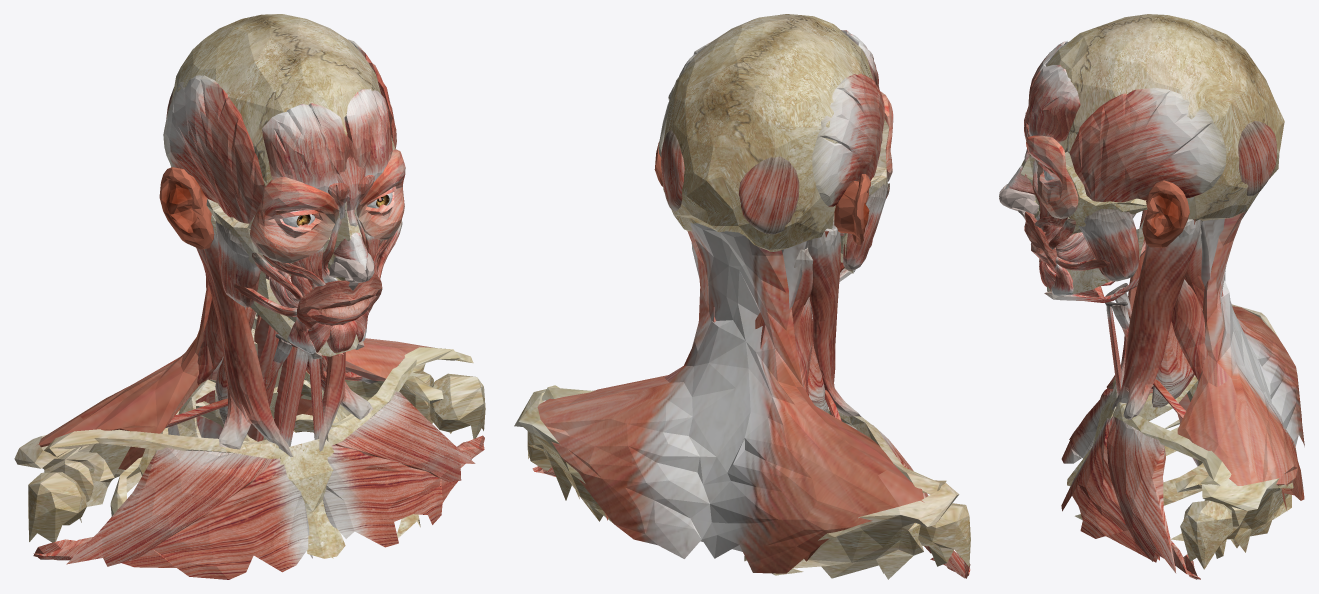
The model's file is Anatomico.fbx.
3 views of the same model, side by side, from view 1: azimuth 30°, elevation 25°; view 2: azimuth 150°, elevation 25°; view 3: azimuth 270°, elevation 25° (orthographic). The views are drawn at different scales.
Visible parts, largest first — view 1: Musculos_Cabeza_1:esqueleto:esqueleto, Musculos_Cabeza_1:Pectoralis1:Pectoralis, Musculos_Cabeza_1:Temporalis:Temporalis, Musculos_Cabeza_1:Frontalis:Frontalis, Musculos_Cabeza_1:Trapezius:Trapezius, Musculos_Cabeza_1:Sternocletomastoid:Sternocletomastoid, Musculos_Cabeza_1:Obicularis_Oculi1, Musculos_Cabeza_1:Oreja:Oreja, Musculos_Cabeza_1:Orbicularis_Oris1, Musculos_Cabeza_1:Massetter:Massetter, Musculos_Cabeza_1:Sternohyoid:Sternohyoid, Longus_Colli (+16 smaller); view 2: Musculos_Cabeza_1:Trapezius:Trapezius, Musculos_Cabeza_1:esqueleto:esqueleto, Musculos_Cabeza_1:Temporalis:Temporalis, Musculo_Cabeza_Occipital, Musculos_Cabeza_1:Sternocletomastoid:Sternocletomastoid, Musculos_Cabeza_1:Oreja:Oreja, Musculos_Cabeza_1:Massetter:Massetter, Musculos_Cabeza_1:Levator_Scapulae1, Longissimus__Capitis, Musculos_Cabeza_1:Splenius_Capitis1, Musculos_Cabeza_1:Pectoralis1:Pectoralis, Musculos_Cabeza_1:Scalenus_Medius1; view 3: Musculos_Cabeza_1:esqueleto:esqueleto, Musculos_Cabeza_1:Trapezius:Trapezius, Musculos_Cabeza_1:Temporalis:Temporalis, Musculos_Cabeza_1:Pectoralis1:Pectoralis, Musculos_Cabeza_1:Sternocletomastoid:Sternocletomastoid, Musculos_Cabeza_1:Frontalis:Frontalis, Musculos_Cabeza_1:Massetter:Massetter, Musculos_Cabeza_1:Obicularis_Oculi1, Musculos_Cabeza_1:Oreja:Oreja, Musculo_Cabeza_Occipital, Musculos_Cabeza_1:Levator_Scapulae1, Musculos_Cabeza_1:Scalenus_Medius1 (+11 smaller).
Part boxes in pixels (<box>): Musculos_Cabeza_1:esqueleto:esqueleto: <box>14,14,485,558</box>; Musculos_Cabeza_1:Pectoralis1:Pectoralis: <box>33,391,484,579</box>; Musculos_Cabeza_1:Temporalis:Temporalis: <box>163,39,396,223</box>; Musculos_Cabeza_1:Frontalis:Frontalis: <box>262,89,392,193</box>; Musculos_Cabeza_1:Trapezius:Trapezius: <box>36,274,432,469</box>; Musculos_Cabeza_1:Sternocletomastoid:Sternocletomastoid: <box>196,228,373,456</box>; Musculos_Cabeza_1:Obicularis_Oculi1: <box>250,149,405,263</box>; Musculos_Cabeza_1:Oreja:Oreja: <box>159,167,214,249</box>; Musculos_Cabeza_1:Orbicularis_Oris1: <box>297,273,382,328</box>; Musculos_Cabeza_1:Massetter:Massetter: <box>215,220,381,307</box>; Musculos_Cabeza_1:Sternohyoid:Sternohyoid: <box>279,348,323,446</box>; Longus_Colli: <box>247,267,296,441</box>; Musculos_Cabeza_1:Trapezius:Trapezius: <box>537,222,924,573</box>; Musculos_Cabeza_1:esqueleto:esqueleto: <box>514,14,970,579</box>; Musculos_Cabeza_1:Temporalis:Temporalis: <box>658,42,884,206</box>; Musculo_Cabeza_Occipital: <box>661,130,799,234</box>; Musculos_Cabeza_1:Sternocletomastoid:Sternocletomastoid: <box>808,220,861,416</box>; Musculos_Cabeza_1:Oreja:Oreja: <box>654,142,870,245</box>; Musculos_Cabeza_1:Massetter:Massetter: <box>843,184,887,270</box>; Musculos_Cabeza_1:Levator_Scapulae1: <box>794,297,812,395</box>; Longissimus__Capitis: <box>691,240,807,348</box>; Musculos_Cabeza_1:Splenius_Capitis1: <box>755,247,813,332</box>; Musculos_Cabeza_1:Pectoralis1:Pectoralis: <box>532,425,970,578</box>; Musculos_Cabeza_1:Scalenus_Medius1: <box>808,338,828,412</box>; Musculos_Cabeza_1:esqueleto:esqueleto: <box>1020,14,1293,569</box>; Musculos_Cabeza_1:Trapezius:Trapezius: <box>1177,199,1304,510</box>; Musculos_Cabeza_1:Temporalis:Temporalis: <box>1069,88,1226,202</box>; Musculos_Cabeza_1:Pectoralis1:Pectoralis: <box>1061,375,1200,579</box>; Musculos_Cabeza_1:Sternocletomastoid:Sternocletomastoid: <box>1111,210,1201,419</box>; Musculos_Cabeza_1:Frontalis:Frontalis: <box>1028,40,1080,143</box>; Musculos_Cabeza_1:Massetter:Massetter: <box>1078,209,1139,281</box>; Musculos_Cabeza_1:Obicularis_Oculi1: <box>1026,109,1078,219</box>; Musculos_Cabeza_1:Oreja:Oreja: <box>1142,180,1189,247</box>; Musculo_Cabeza_Occipital: <box>1238,121,1276,196</box>; Musculos_Cabeza_1:Levator_Scapulae1: <box>1171,279,1207,380</box>; Musculos_Cabeza_1:Scalenus_Medius1: <box>1152,320,1194,407</box>.
Size of the model in its own units: 1.6 by 1.7 by 1.01.
